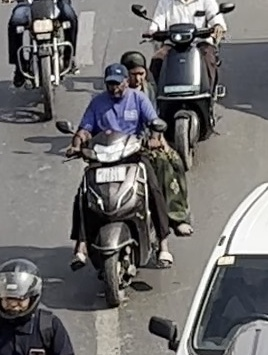BikeWithRider: (50, 46, 197, 310)
NoHelmet: (117, 49, 150, 90), (99, 60, 131, 100)
